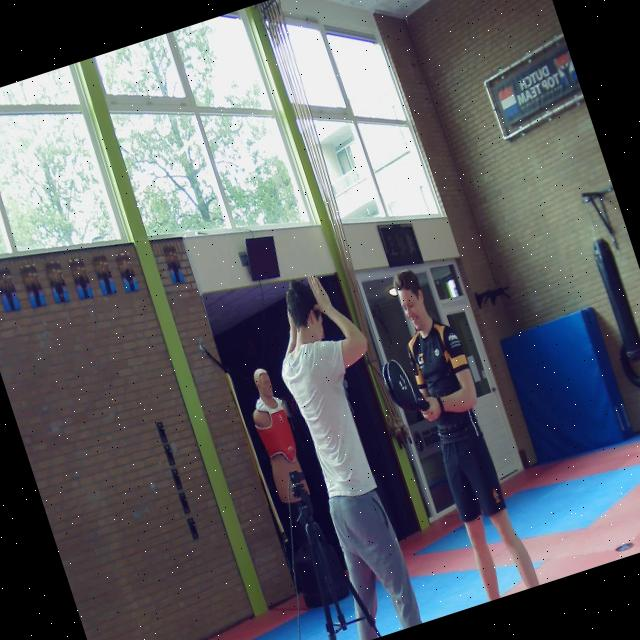paddle: (382, 359, 429, 410)
